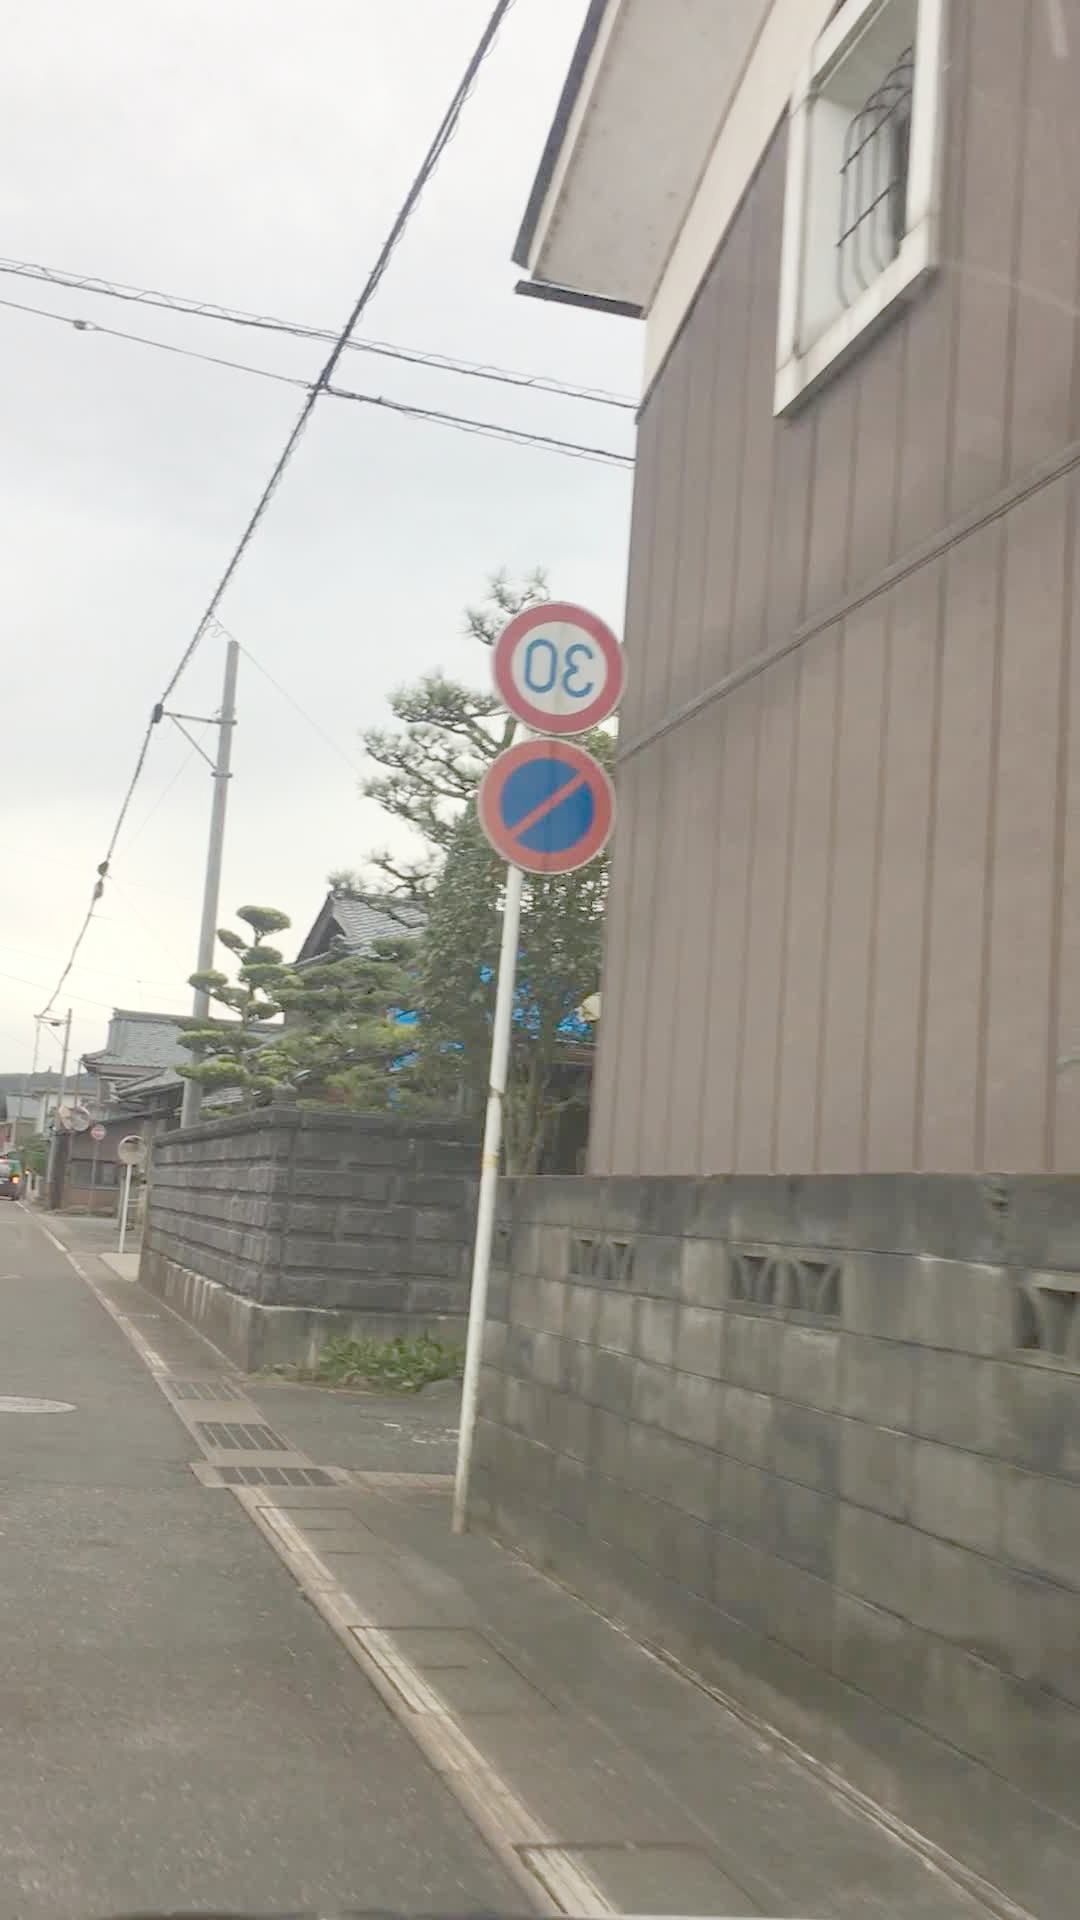Prohibition_sign: (464, 731, 620, 890)
Speed_sign: (483, 592, 640, 752)
